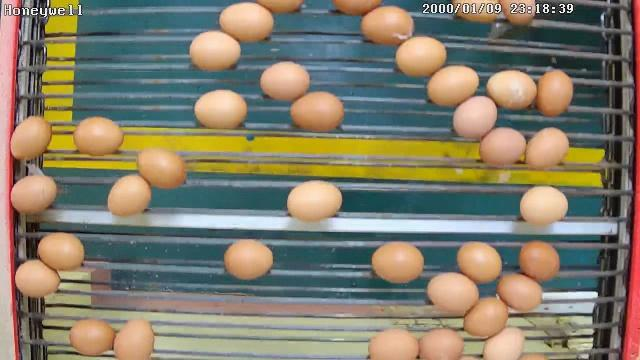egg: (286, 90, 348, 134), (217, 1, 274, 46), (286, 180, 344, 224), (426, 64, 481, 110), (193, 87, 249, 132), (360, 3, 416, 48), (370, 240, 426, 285), (394, 35, 448, 80), (188, 28, 243, 72), (136, 146, 188, 192), (72, 114, 126, 158), (484, 68, 540, 110), (223, 238, 276, 282), (426, 271, 480, 313), (258, 60, 310, 103), (518, 184, 570, 226), (451, 94, 498, 140), (8, 115, 52, 164), (9, 172, 58, 216), (38, 230, 86, 274), (106, 173, 153, 217), (524, 127, 570, 171), (456, 240, 502, 284), (462, 294, 508, 338), (478, 126, 526, 168), (68, 316, 116, 356), (496, 272, 544, 312), (536, 67, 574, 117), (13, 259, 60, 299), (114, 317, 157, 360), (519, 240, 561, 284), (366, 327, 419, 360), (418, 325, 466, 359), (482, 324, 526, 360)
